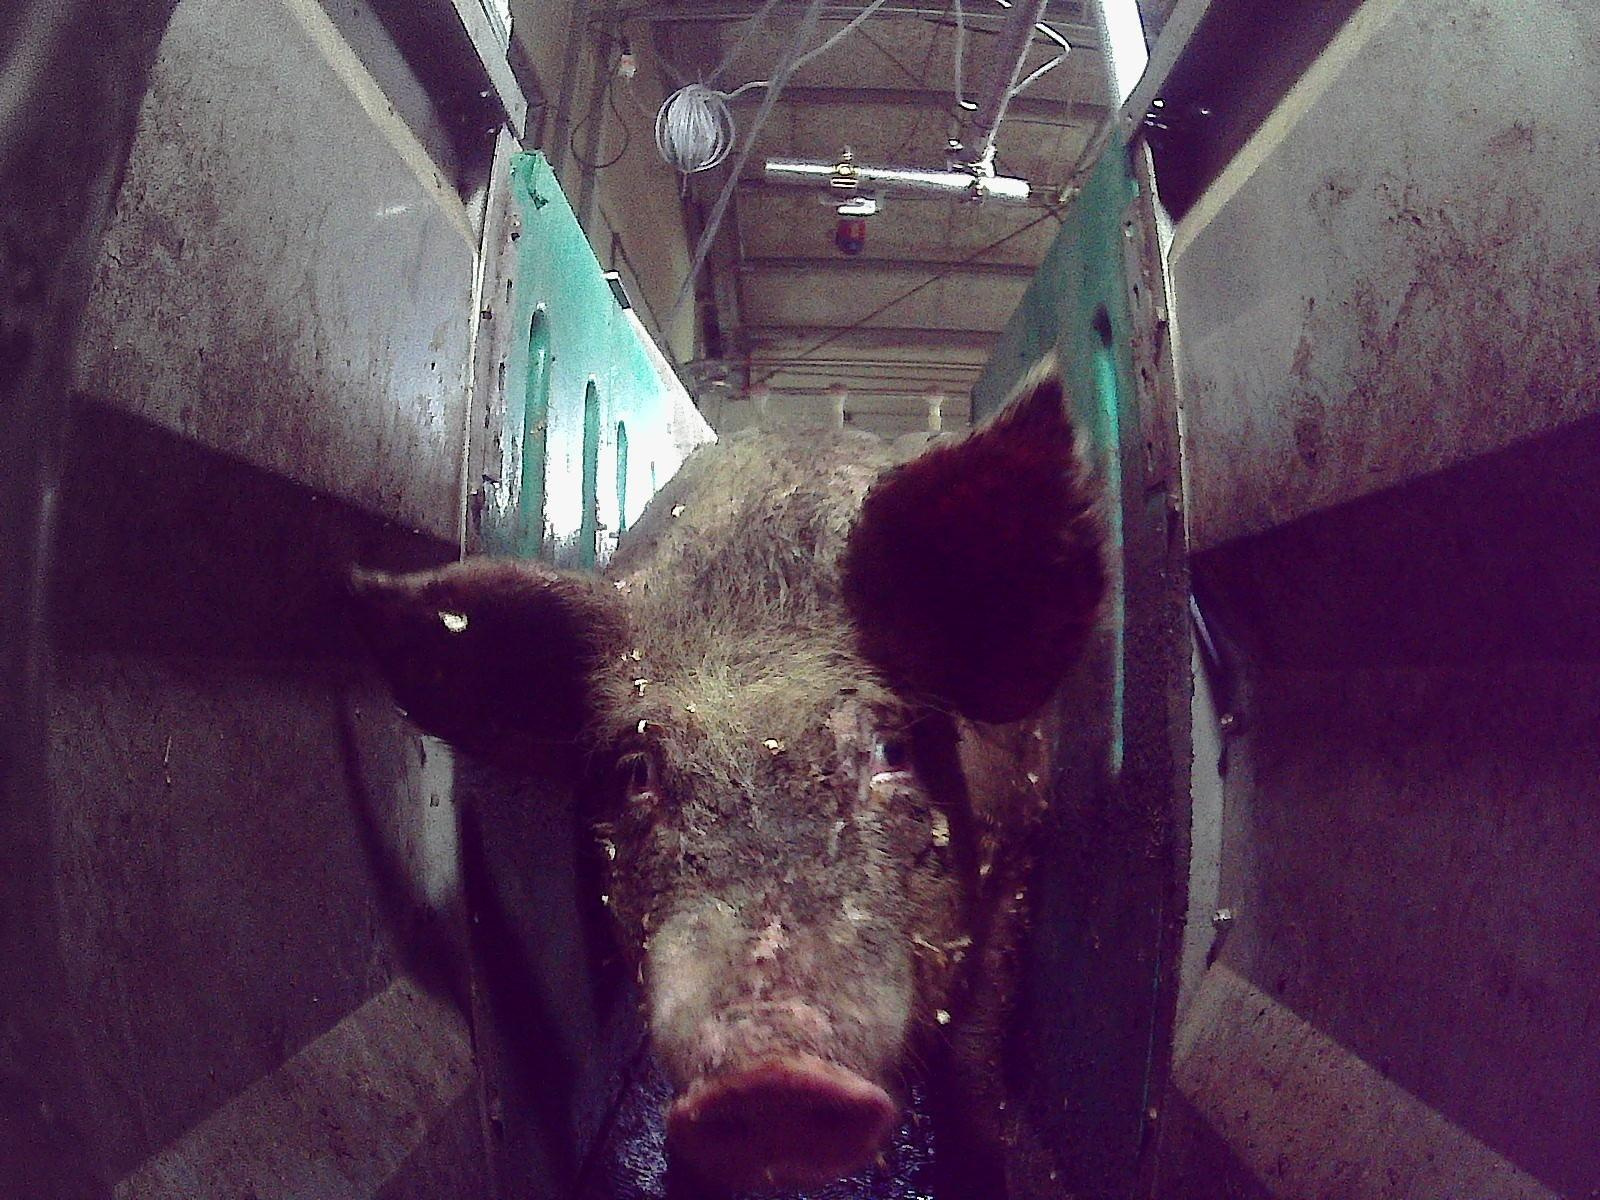Face: (576, 503, 1000, 1195)
